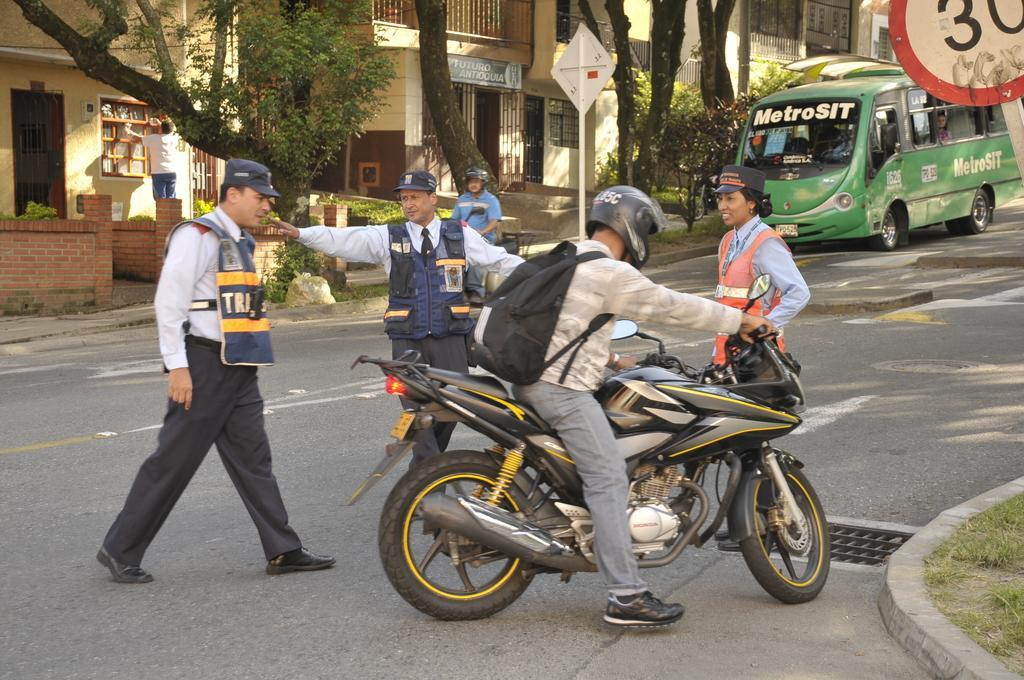helmet: (584, 184, 666, 270), (461, 165, 490, 195)
nohelmet: (218, 157, 282, 230), (713, 163, 774, 228), (391, 169, 440, 225)
